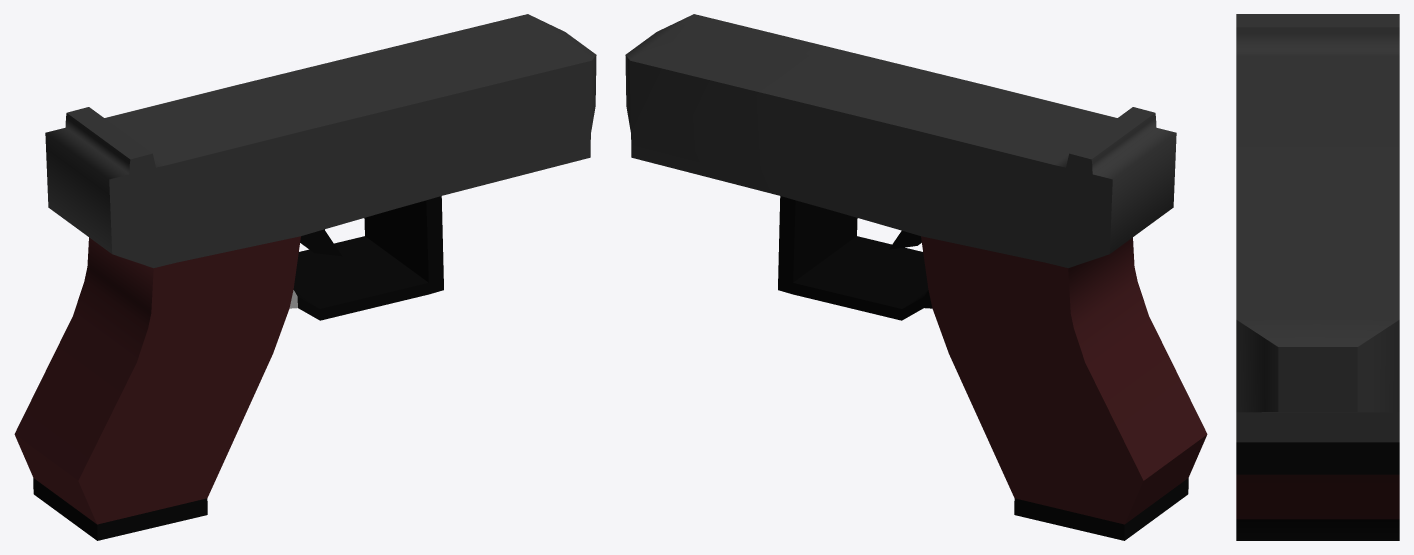
The model's file is Handgun.fbx.
The picture shows the model from 3 angles, left to right: view 1: azimuth 30°, elevation 25°; view 2: azimuth 150°, elevation 25°; view 3: azimuth 270°, elevation 25°; orthographic projection. The views are drawn at different scales.
Parts seen in each view (by area): view 1: pCube1; view 2: pCube1; view 3: pCube1.
Part boxes in pixels (box(x1,y1,x2,y2)): pCube1: box(14, 14, 596, 540); pCube1: box(625, 14, 1207, 540); pCube1: box(1236, 14, 1399, 540).
Bounding box in the file's own units: 2.59 × 1.73 × 0.5355.
